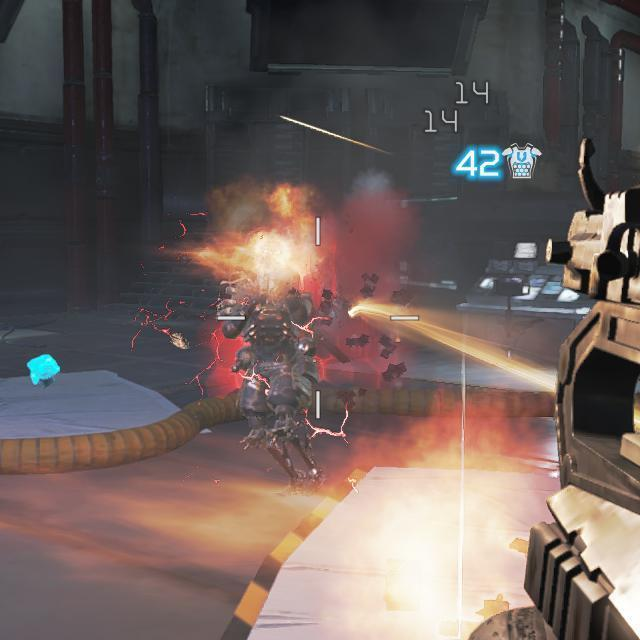avatar: (218, 277, 320, 496)
